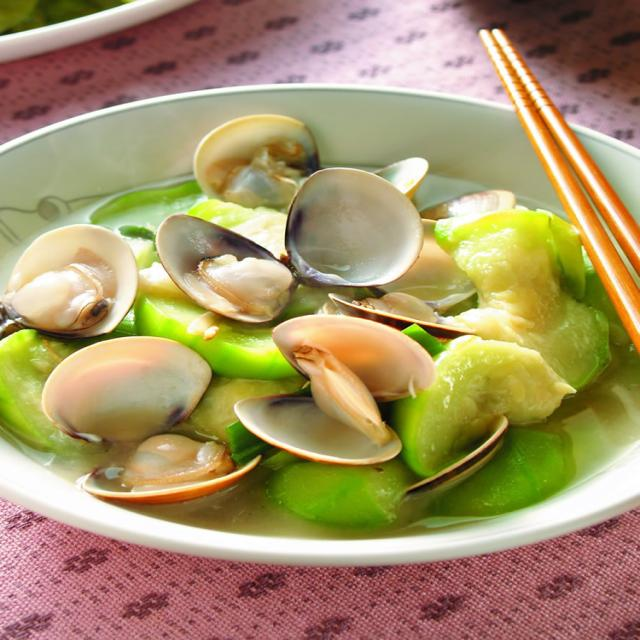Wet: (13, 137, 570, 485)
